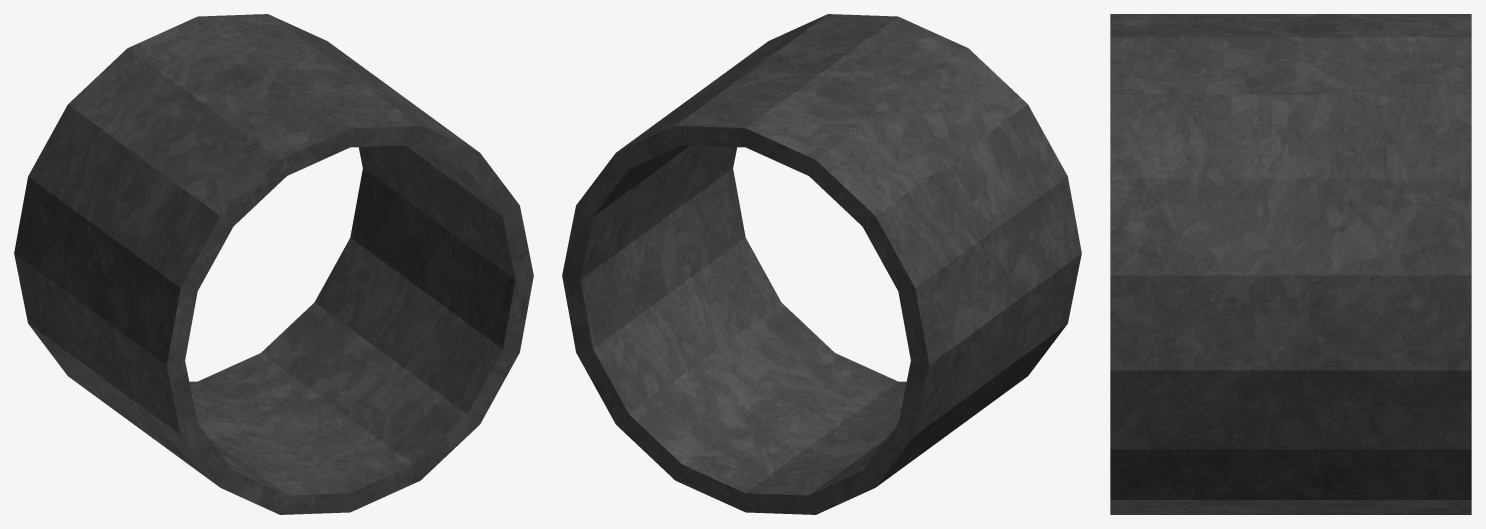
The model's file is Big_pipe_segment.glb.
The picture shows the model from 3 angles, left to right: view 1: azimuth 30°, elevation 25°; view 2: azimuth 150°, elevation 25°; view 3: azimuth 270°, elevation 25°; orthographic projection. The views are drawn at different scales.
Parts seen in each view (by area): view 1: Big pipe segment; view 2: Big pipe segment; view 3: Big pipe segment.
Boxes of the visible parts, x1=… form: Big pipe segment: x1=14, y1=14, x2=533, y2=514; Big pipe segment: x1=562, y1=14, x2=1081, y2=514; Big pipe segment: x1=1110, y1=14, x2=1471, y2=514.
Bounding box in the file's own units: 9 × 9 × 6.48.
1 material, 1 textured.
